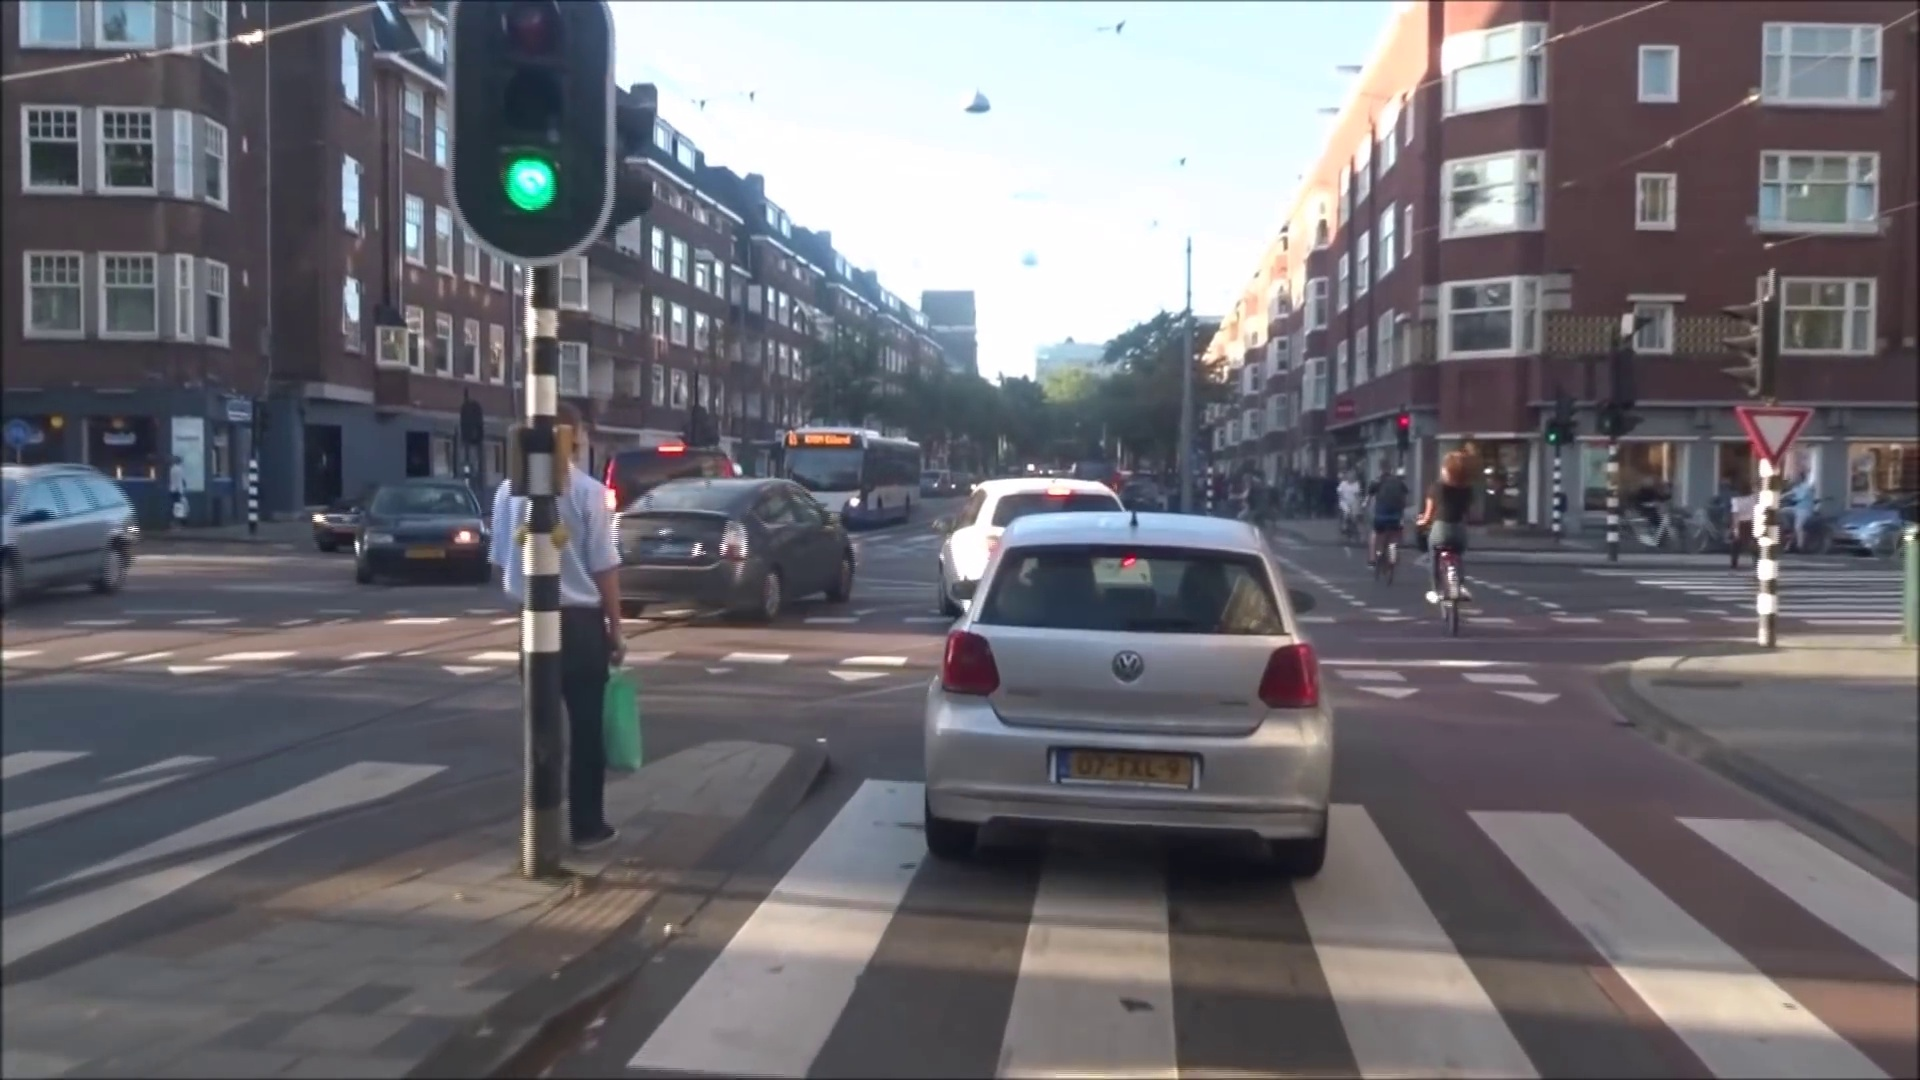cyclist_back: (1424, 447, 1478, 642), (1365, 458, 1404, 590)
